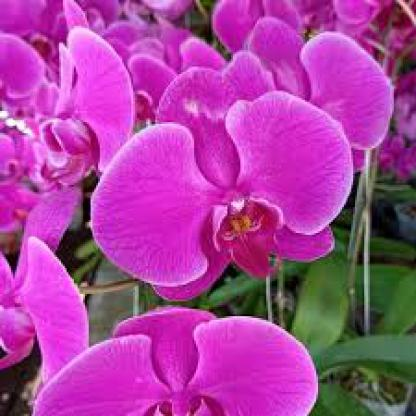ANGGREK: (34, 23, 386, 404)
